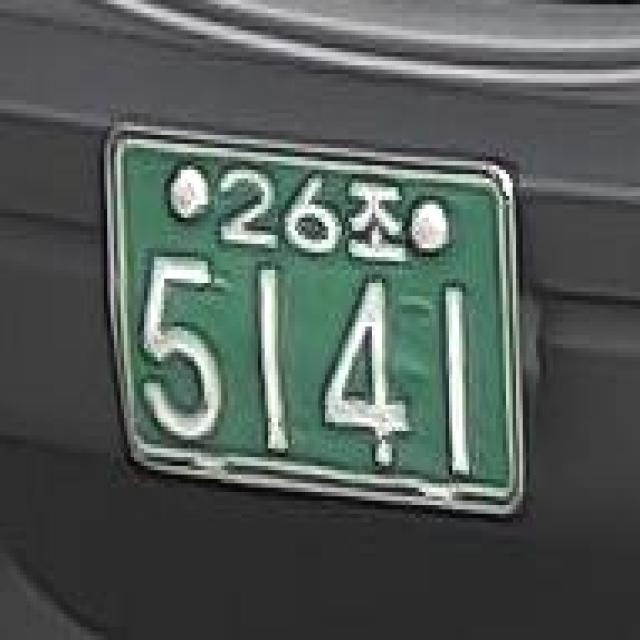illegal_plate: (83, 104, 543, 545)
